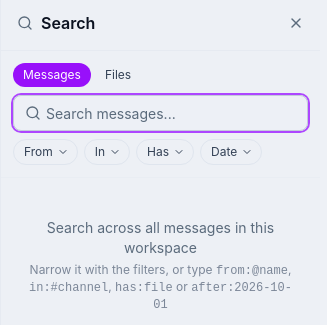
Scenario: SearchPanel › shows the words found inside a file, marked but never as markup
The image size is (327, 325).
Click the tab with test id "search-tab-files": (118, 75) [95,63,141,87]
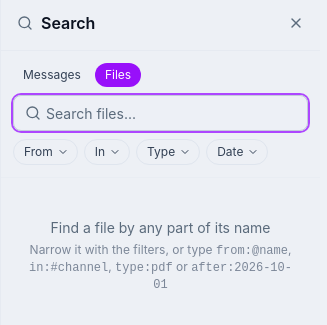
In the field: (160, 113) [13,95,308,131], type "scepanovic"
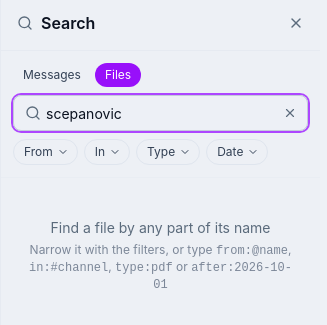
Press Enter in the field, box [13,95,308,131]
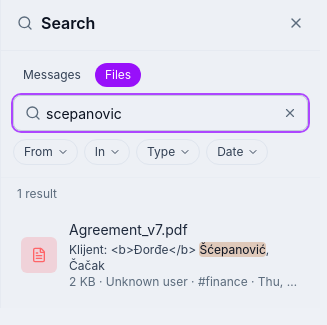
Result: the element with test id "file-hit-snippet" reads "Klijent: <b>Đorđe</b> Šćepanović, Čačak" at [69,242,300,274]
Result: the text with test id "file-hit-snippet-match" reads "Šćepanović" at [200,242,266,257]
